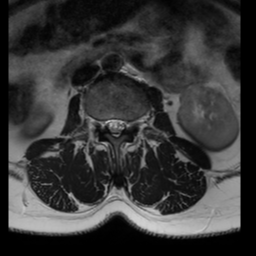CCS_normal: (110, 114, 119, 141)
LFS_normal: (128, 113, 136, 135)
LLS_normal: (118, 114, 127, 137)
RFS_normal: (97, 114, 104, 135)
RLS_stenosis: (103, 114, 111, 136)
